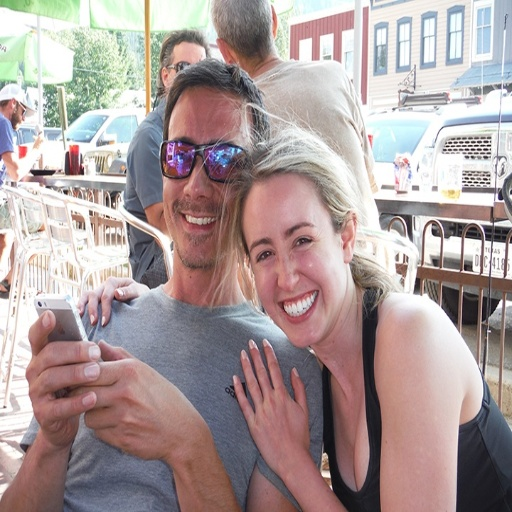hand: (65, 339, 201, 462), (224, 343, 322, 496), (22, 308, 100, 450), (75, 273, 150, 328), (29, 131, 46, 155)
